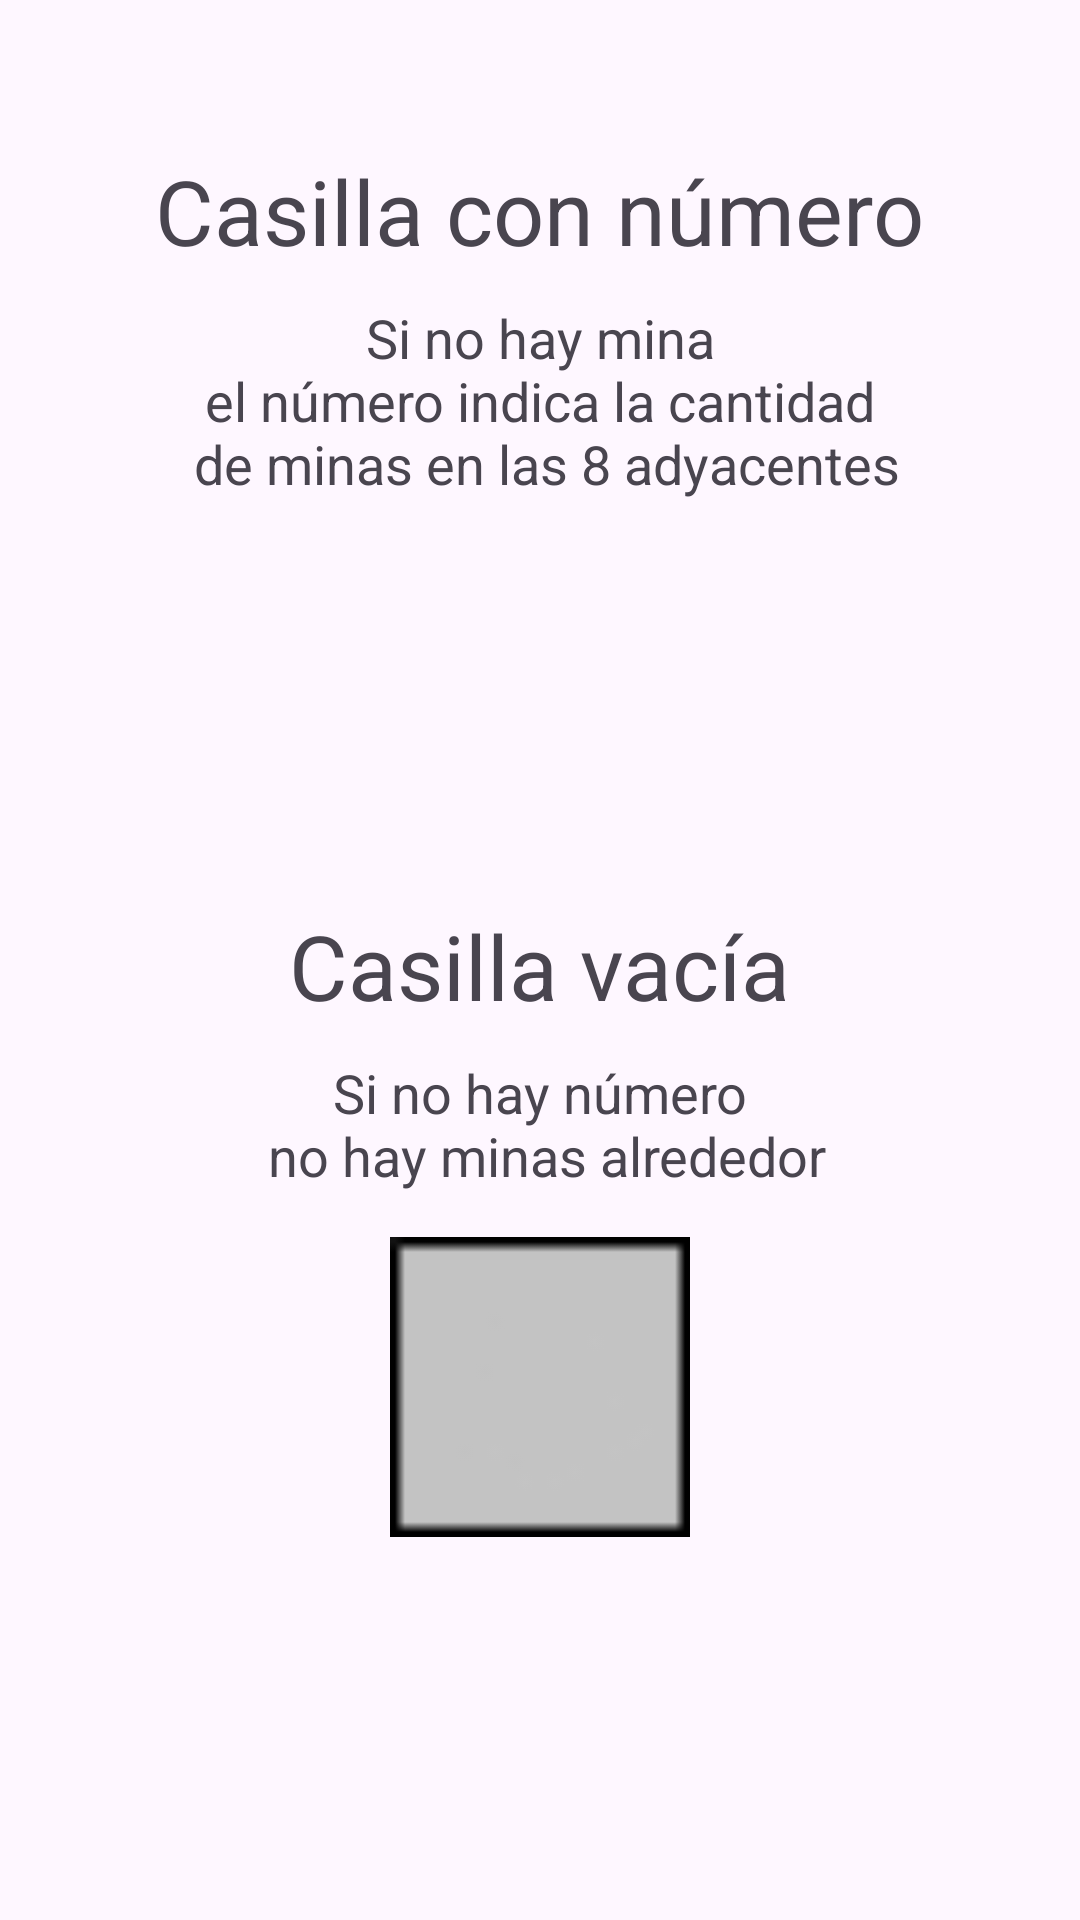

Named icons in this screenshot (1080*1920) and their centers, (x,y):
Casilla vacía: (540,1387)
